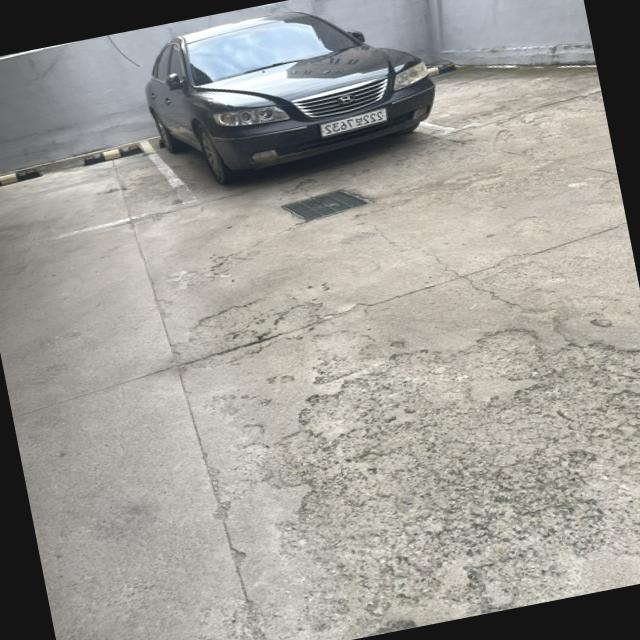drain_area: (283, 191, 368, 220)
drain_full: (282, 189, 368, 222)
